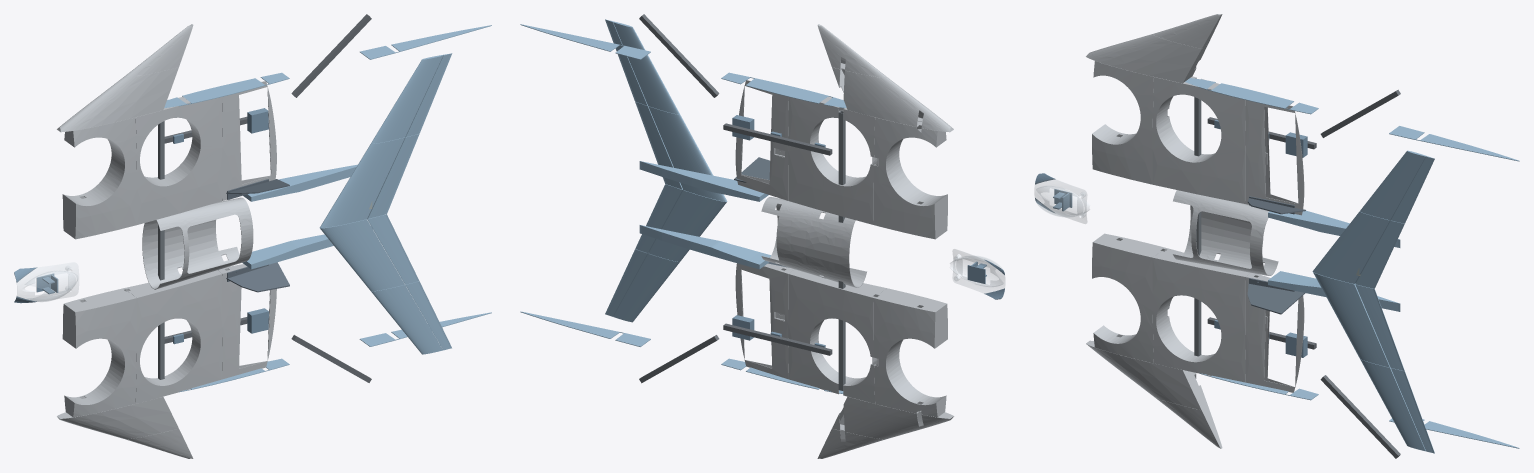
Rendered from v19s_stoop_crest.glb.
3 views of the same model, side by side, from view 1: azimuth 30°, elevation 25°; view 2: azimuth 150°, elevation 25°; view 3: azimuth 330°, elevation 25° (orthographic).
Visible parts, largest first — view 1: WLC_hollow_wing, WRC_hollow_wing, WLB_hollow_wing, F3_hollow_body, WRB_hollow_wing, WRE1_falcon_wing, NEW_crest_R1, NEW_crest_L1, WLE1_falcon_wing, WRD_hollow_wing, WLD_hollow_wing, NEW_crest_R2 (+21 smaller); view 2: WLC_hollow_wing, WRC_hollow_wing, WLB_hollow_wing, WRB_hollow_wing, F3_hollow_body, WRE1_falcon_wing, WLE1_falcon_wing, WLD_hollow_wing, WRD_hollow_wing, NEW_crest_L1, NEW_crest_R1, NEW_F5_root_fairing_L (+19 smaller); view 3: WLC_hollow_wing, WRC_hollow_wing, F3_hollow_body, WLB_hollow_wing, WRB_hollow_wing, WRE1_falcon_wing, WRD_hollow_wing, WLE1_falcon_wing, WLD_hollow_wing, NEW_crest_R1, NEW_crest_L1, NEW_crest_R2 (+19 smaller).
Boxes of the visible parts, left/top/right/bottom form: WLC_hollow_wing: left=124, top=270, right=222, bottom=403; WRC_hollow_wing: left=135, top=97, right=222, bottom=224; WLB_hollow_wing: left=62, top=288, right=136, bottom=417; F3_hollow_body: left=142, top=197, right=253, bottom=289; WRB_hollow_wing: left=62, top=117, right=136, bottom=239; WRE1_falcon_wing: left=57, top=67, right=178, bottom=132; NEW_crest_R1: left=319, top=137, right=404, bottom=228; NEW_crest_L1: left=320, top=219, right=404, bottom=291; WLE1_falcon_wing: left=57, top=397, right=178, bottom=439; WRD_hollow_wing: left=222, top=81, right=276, bottom=200; WLD_hollow_wing: left=218, top=264, right=276, bottom=379; NEW_crest_R2: left=371, top=55, right=442, bottom=143; WLC_hollow_wing: left=788, top=269, right=886, bottom=403; WRC_hollow_wing: left=788, top=97, right=878, bottom=224; WLB_hollow_wing: left=874, top=288, right=947, bottom=417; WRB_hollow_wing: left=874, top=117, right=947, bottom=239; F3_hollow_body: left=761, top=197, right=866, bottom=287; WRE1_falcon_wing: left=832, top=67, right=953, bottom=132; WLE1_falcon_wing: left=832, top=396, right=953, bottom=439; WLD_hollow_wing: left=735, top=263, right=794, bottom=379; WRD_hollow_wing: left=735, top=80, right=788, bottom=200; NEW_crest_L1: left=648, top=190, right=726, bottom=261; NEW_crest_R1: left=648, top=106, right=727, bottom=201; NEW_F5_root_fairing_L: left=639, top=225, right=770, bottom=269; WLC_hollow_wing: left=1152, top=248, right=1250, bottom=382; WRC_hollow_wing: left=1152, top=76, right=1245, bottom=203; F3_hollow_body: left=1173, top=190, right=1278, bottom=275; WLB_hollow_wing: left=1092, top=233, right=1165, bottom=363; WRB_hollow_wing: left=1092, top=61, right=1153, bottom=184; WRE1_falcon_wing: left=1086, top=34, right=1207, bottom=83; WRD_hollow_wing: left=1245, top=100, right=1304, bottom=215; WLE1_falcon_wing: left=1086, top=340, right=1207, bottom=410; WLD_hollow_wing: left=1245, top=273, right=1304, bottom=392; NEW_crest_R1: left=1312, top=211, right=1390, bottom=283; NEW_crest_L1: left=1313, top=272, right=1390, bottom=367; NEW_crest_R2: left=1360, top=150, right=1426, bottom=220.
Bounding box in the file's own units: 1104 × 954 × 132.
